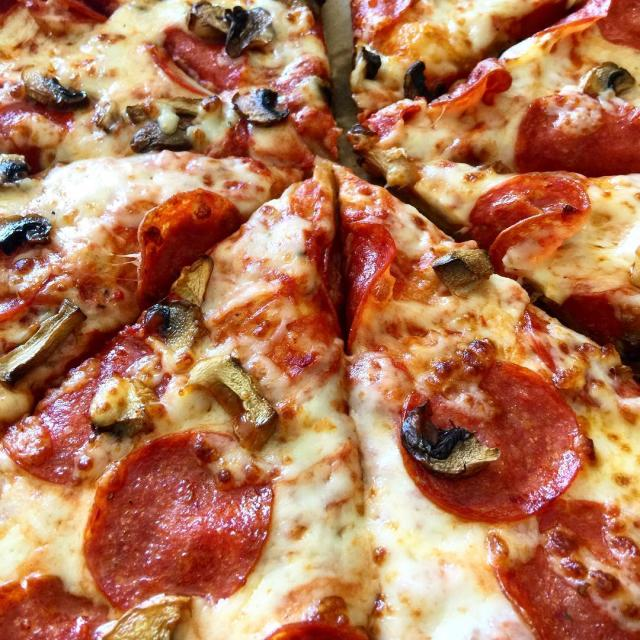mushrooms: (188, 355, 278, 448), (401, 401, 500, 476), (0, 299, 85, 382), (189, 2, 275, 58), (90, 377, 154, 427), (140, 300, 202, 349), (432, 250, 494, 294), (225, 7, 275, 58), (23, 71, 88, 108), (170, 254, 214, 306), (0, 214, 53, 254), (232, 89, 288, 125), (130, 121, 193, 152), (580, 62, 635, 97), (404, 60, 445, 101), (0, 154, 30, 186), (361, 48, 381, 80)
pepperoni: (84, 431, 274, 609), (2, 330, 152, 483), (137, 189, 244, 309), (515, 90, 640, 176), (469, 172, 590, 247), (0, 575, 108, 640), (164, 28, 248, 92), (597, 0, 639, 49), (356, 5, 409, 42), (266, 622, 369, 640), (554, 465, 558, 467)
pizza: (0, 0, 640, 640)
